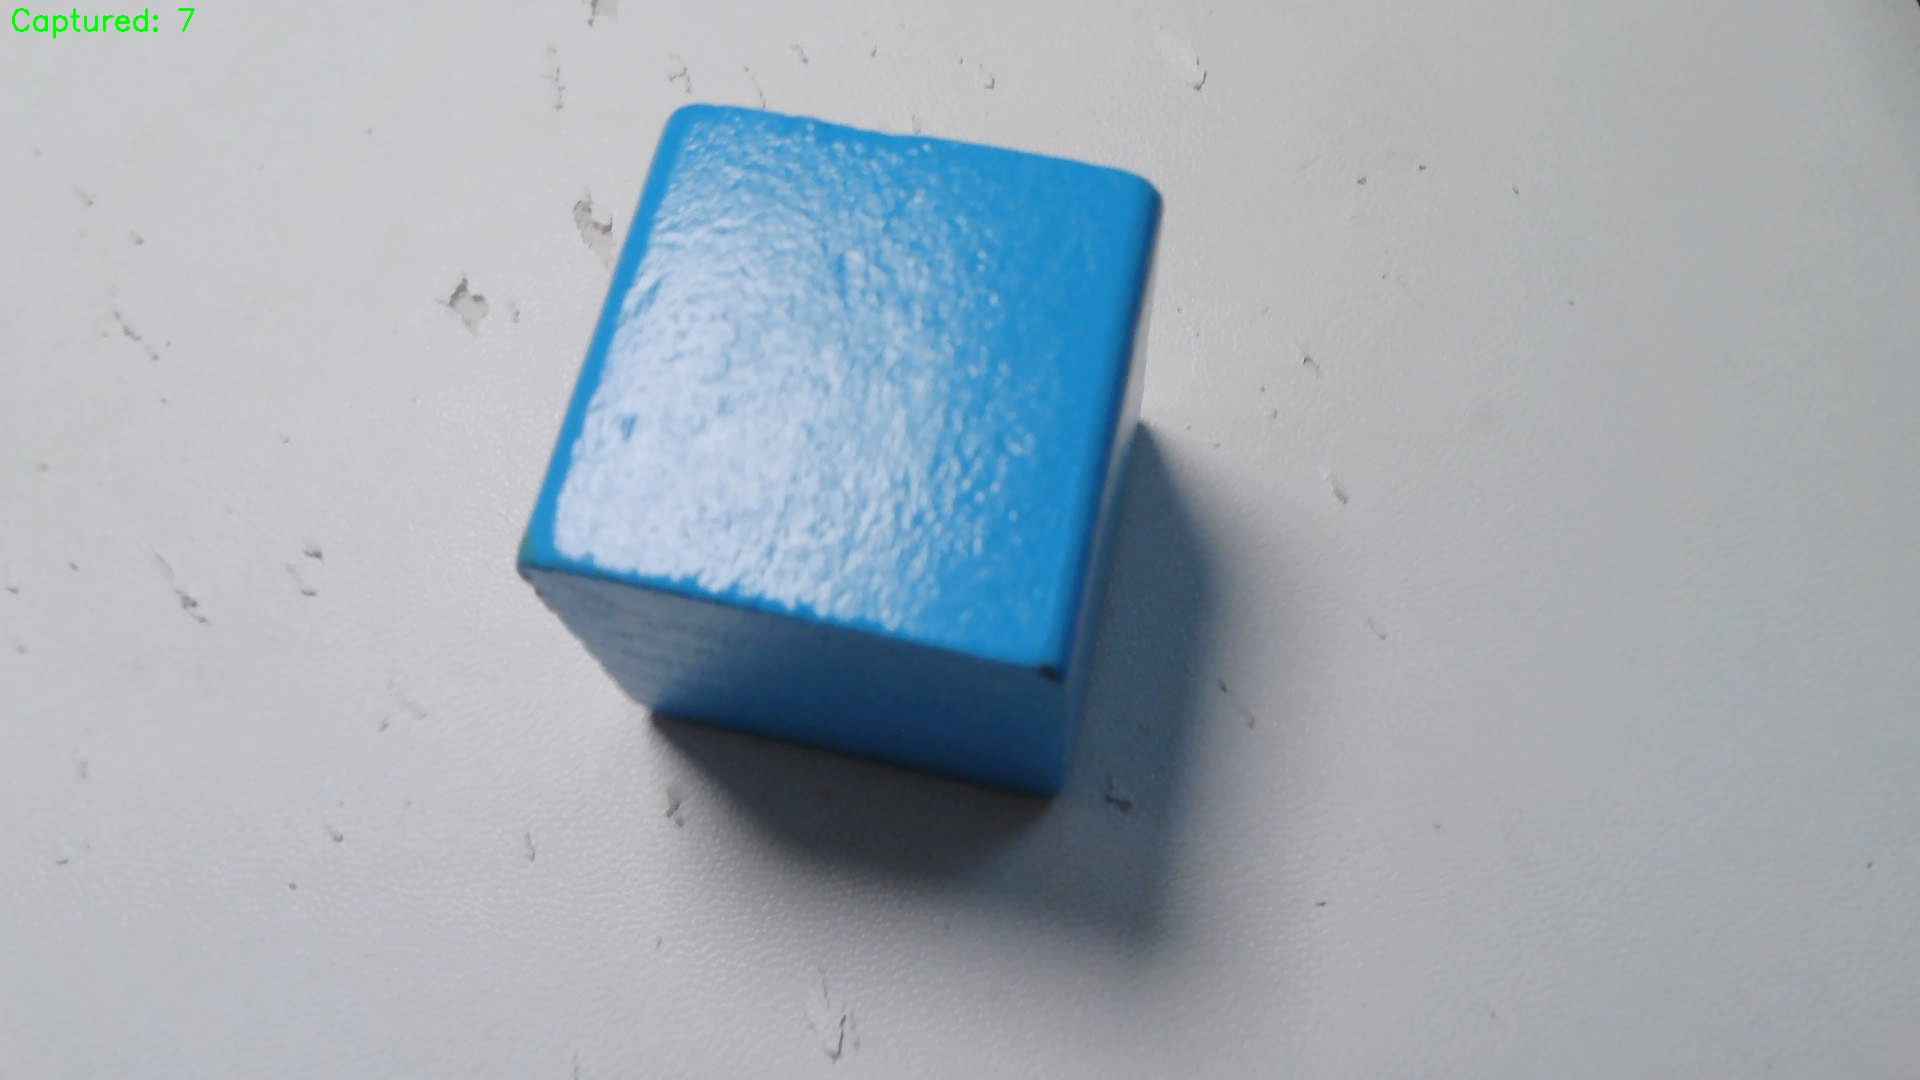blue: (537, 100, 1168, 800)
